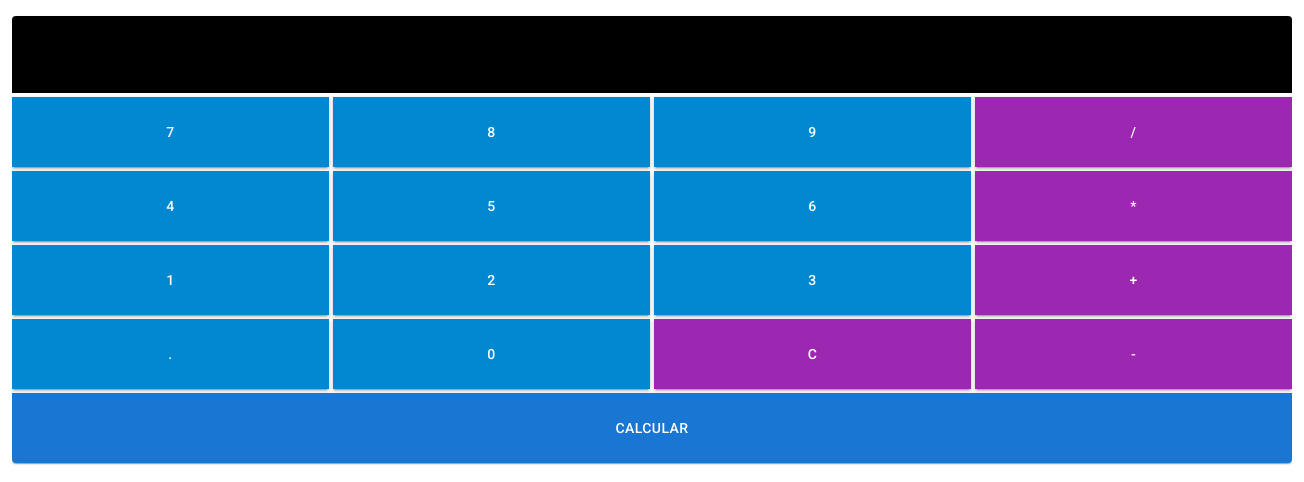
Calculadora component › Deve somar dois números
This screenshot has width=1304, height=482.
Click the button "9": (812, 132) [654,97,971,167]
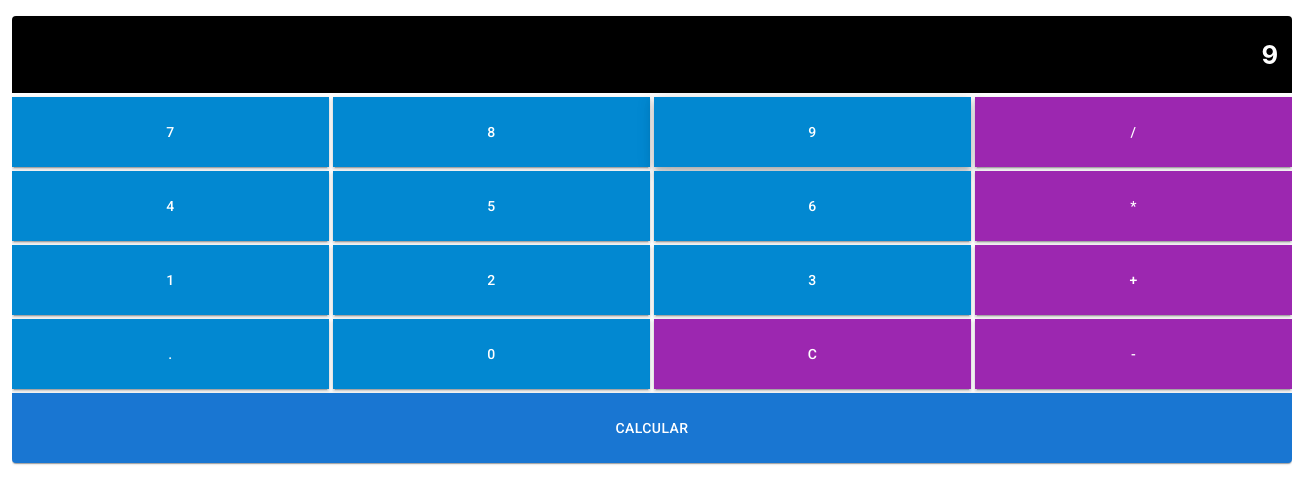
Click the button "+": (1134, 280) [975,245,1292,315]
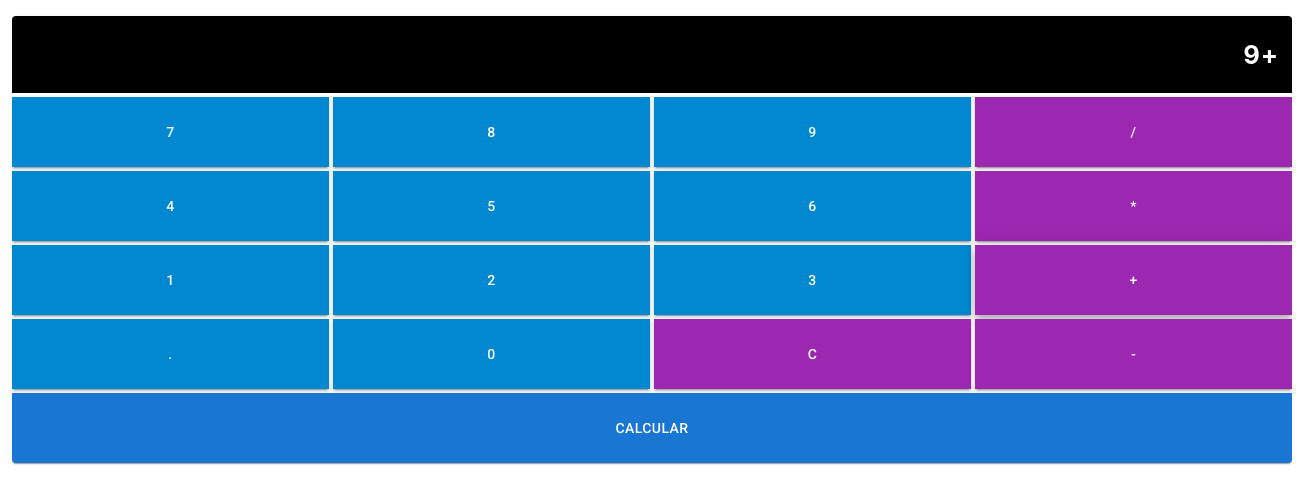
Click the button "2": (492, 280) [333,245,650,315]
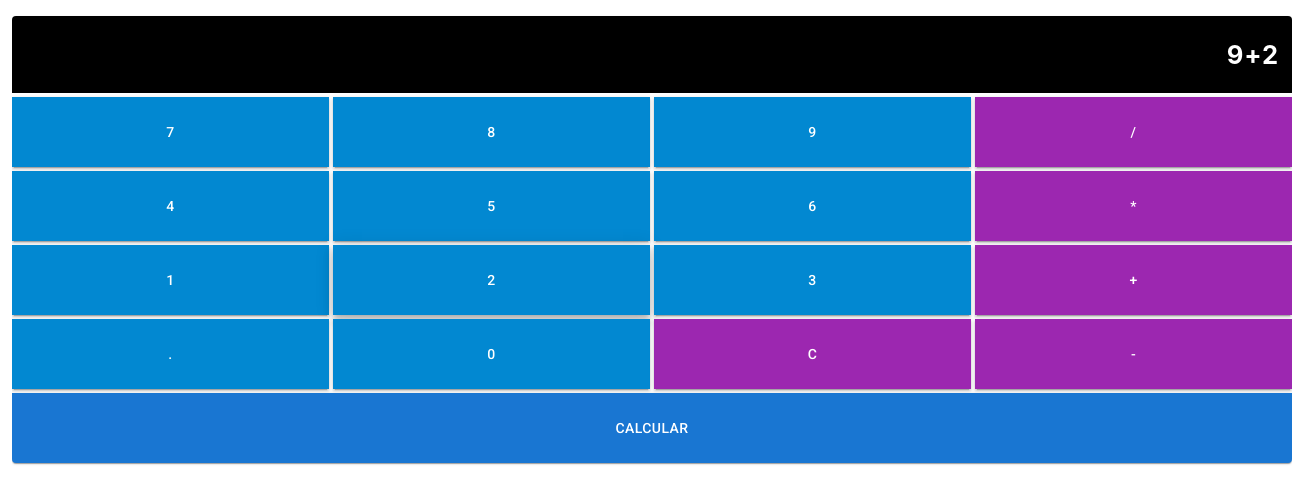
Click the button "Calcular": (652, 428) [12,393,1292,463]
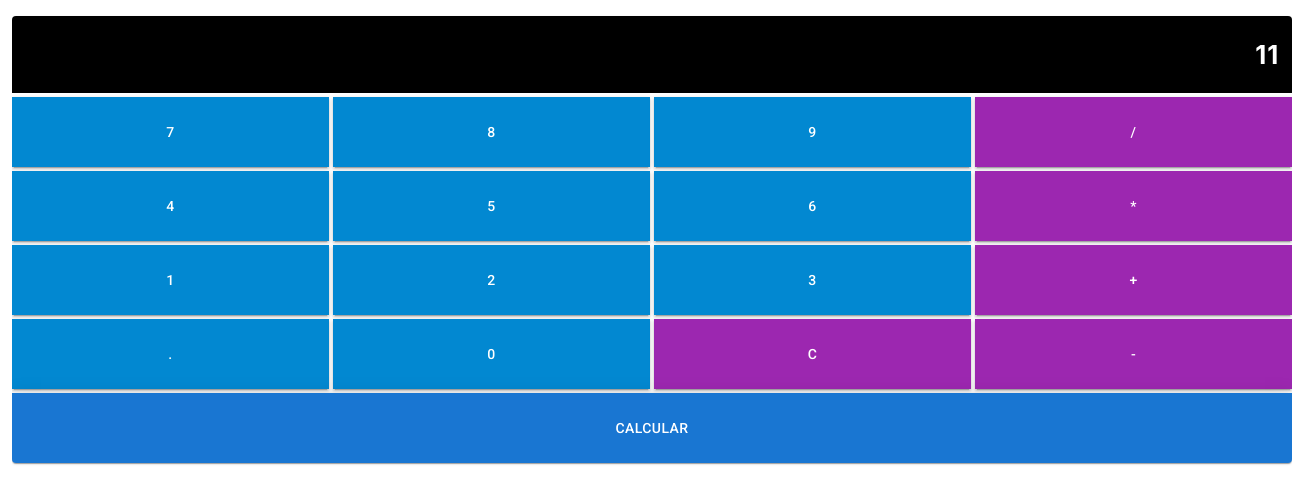
Expected: the text "11" is shown, [12,16,1292,93]
